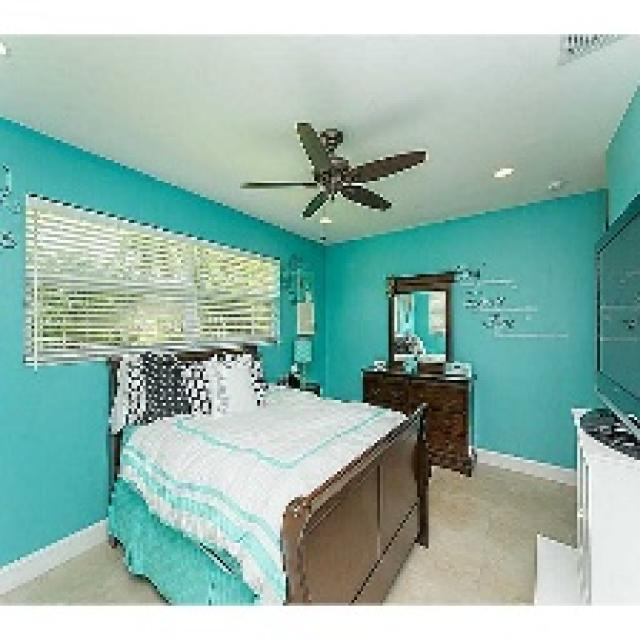Bed: (106, 343, 428, 603)
